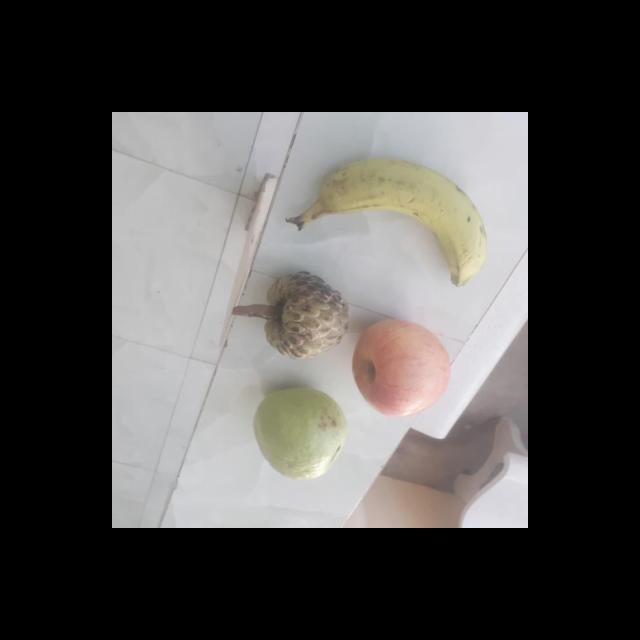Sakya fruit: (260, 274, 348, 361)
apple: (348, 322, 454, 418)
banana: (286, 158, 486, 288)
guava: (250, 390, 344, 478)
